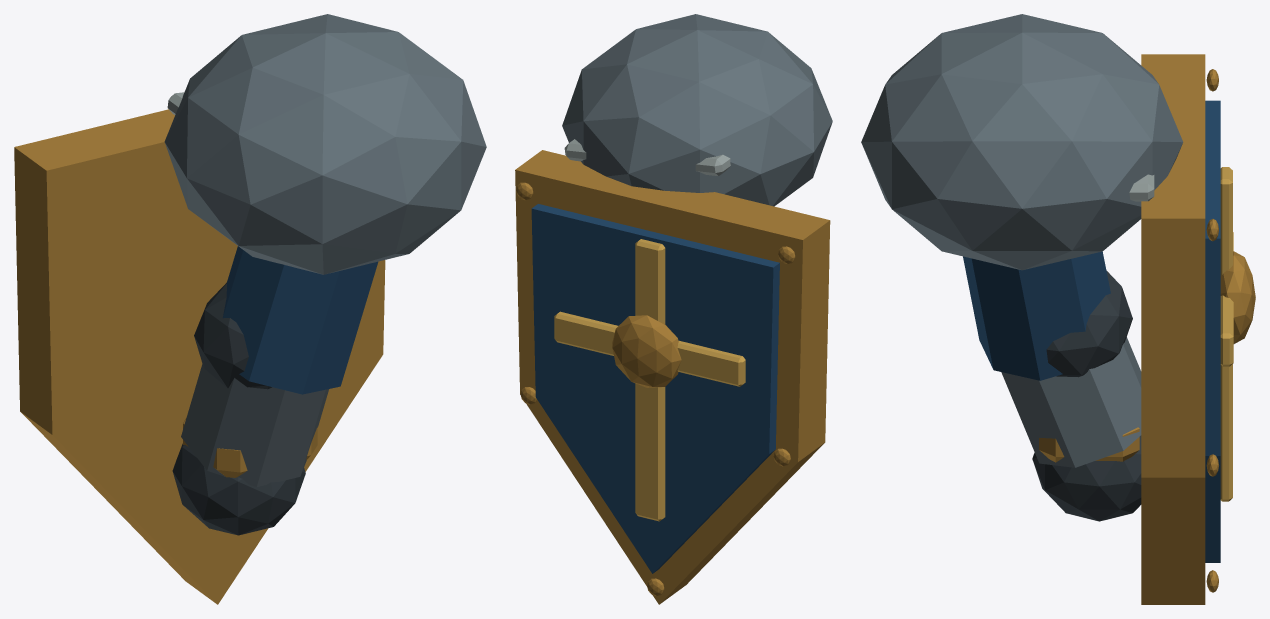
File: ArmLeft.glb
The picture shows the model from 3 angles, left to right: view 1: azimuth 30°, elevation 25°; view 2: azimuth 150°, elevation 25°; view 3: azimuth 270°, elevation 25°; orthographic projection. The views are drawn at different scales.
Parts seen in each view (by area): view 1: Sculpture; view 2: Sculpture; view 3: Sculpture.
Part boxes in pixels (x1,y1,x2,y2): Sculpture: (14, 14, 486, 604); Sculpture: (515, 14, 832, 604); Sculpture: (861, 14, 1255, 604).
Bounding box in the file's own units: 0.605 × 0.978 × 0.588.
